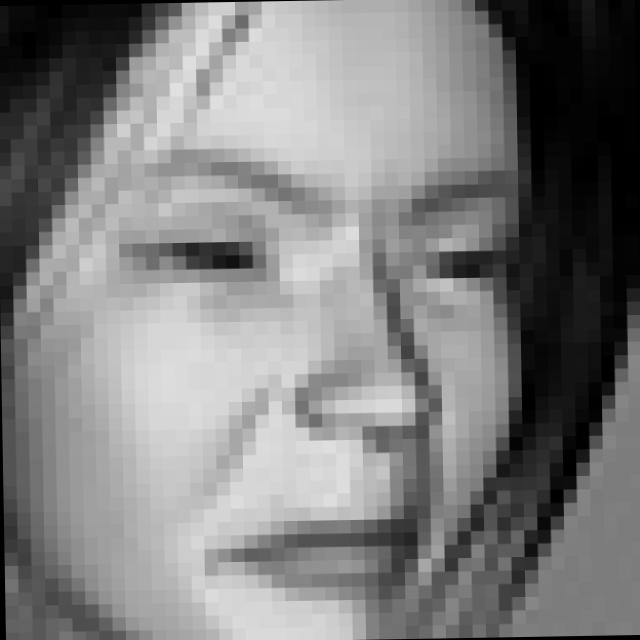disgust: (127, 137, 518, 614)
